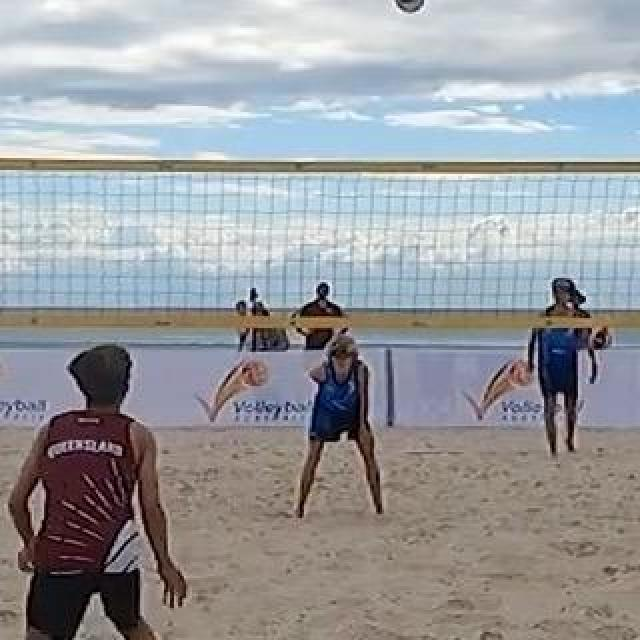volleyball: (396, 0, 426, 14)
